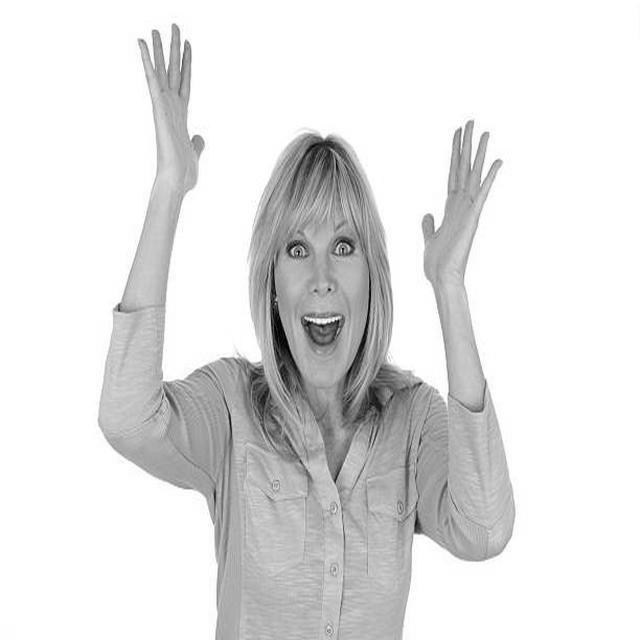Surprised: (274, 177, 370, 389)
